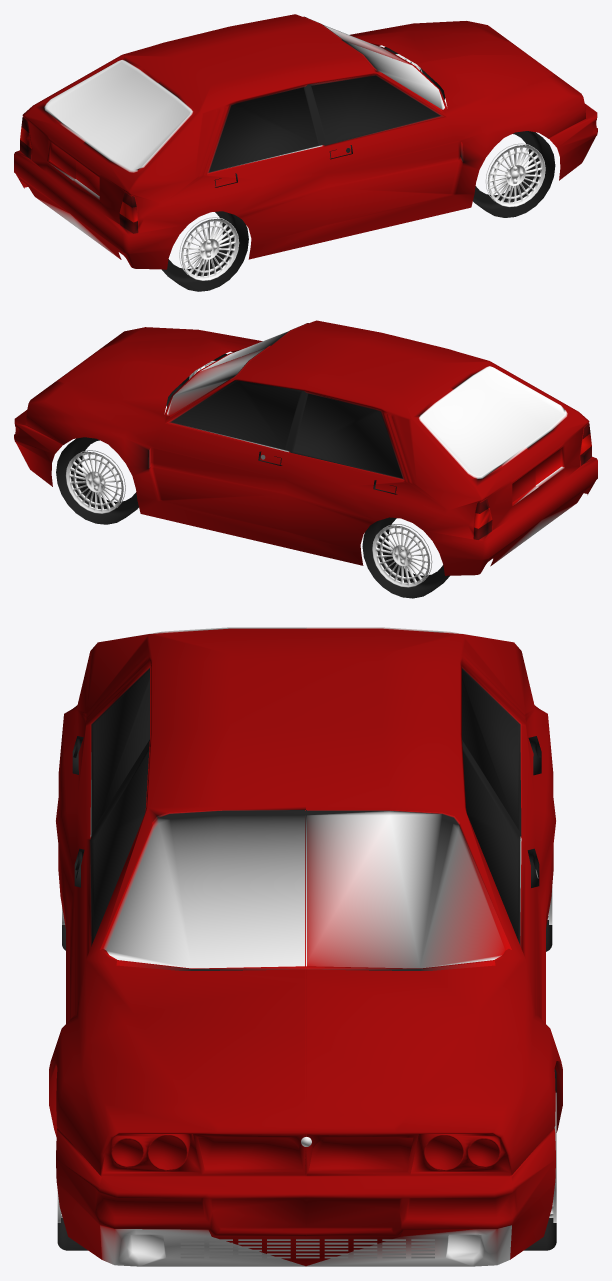
Rendered from car.obj.
3 views of the same model, one above another, from view 1: azimuth 30°, elevation 25°; view 2: azimuth 150°, elevation 25°; view 3: azimuth 270°, elevation 25° (orthographic). The views are drawn at different scales.
Size of the model in its own units: 1.88 by 0.6195 by 0.8668.
